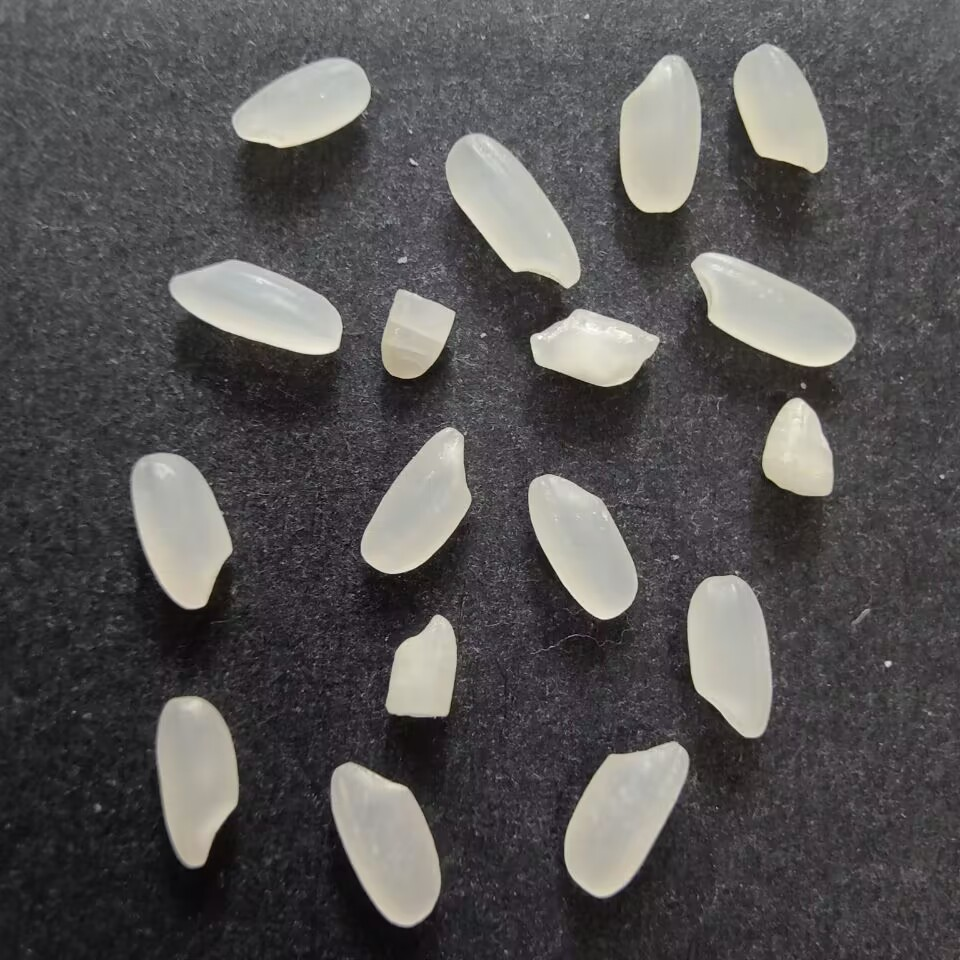broken: (526, 307, 664, 390), (380, 610, 462, 726), (759, 392, 839, 502), (376, 285, 458, 385)
rice: (443, 131, 585, 291), (561, 737, 693, 905), (326, 757, 446, 930), (687, 250, 859, 369), (161, 257, 345, 361), (525, 468, 643, 625), (360, 420, 480, 574), (127, 449, 237, 614), (152, 695, 244, 876), (684, 569, 777, 742), (616, 50, 702, 217), (227, 53, 373, 150), (731, 41, 832, 177)
